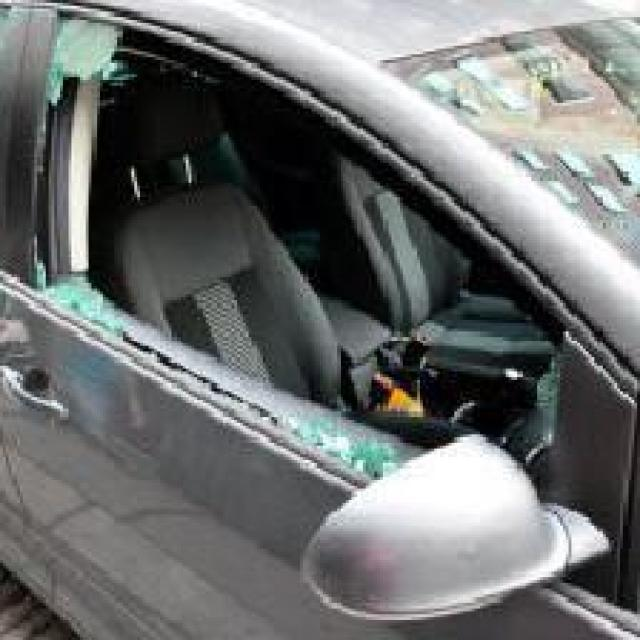damaged: (34, 8, 560, 554)
